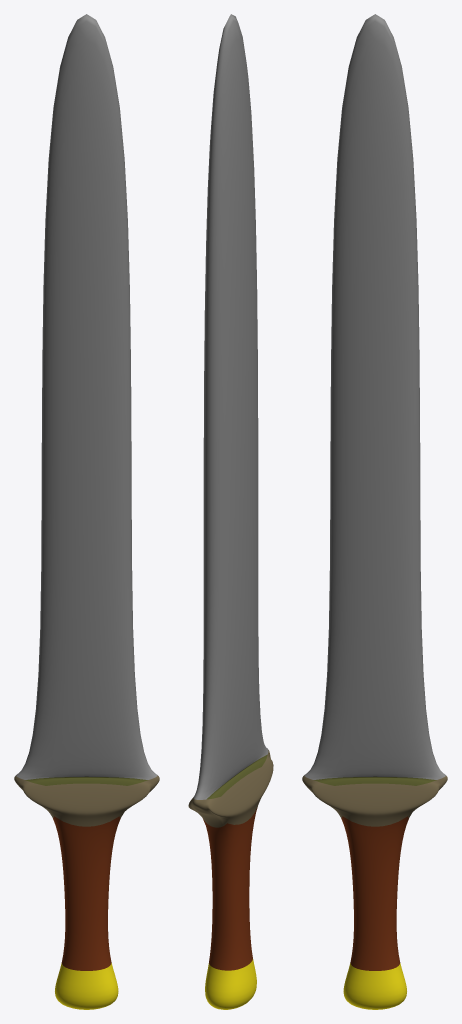
File: espadaTest.fbx
3 views of the same model, side by side, from view 1: azimuth 90°, elevation 25°; view 2: azimuth 150°, elevation 25°; view 3: azimuth 270°, elevation 25° (orthographic).
Visible parts, largest first — view 1: Cube; view 2: Cube; view 3: Cube.
Boxes of the visible parts, <box> form: Cube: <box>14,14,159,1009</box>; Cube: <box>188,14,273,1009</box>; Cube: <box>302,14,447,1009</box>.
Size of the model in its own units: 36.99 by 871 by 116.
